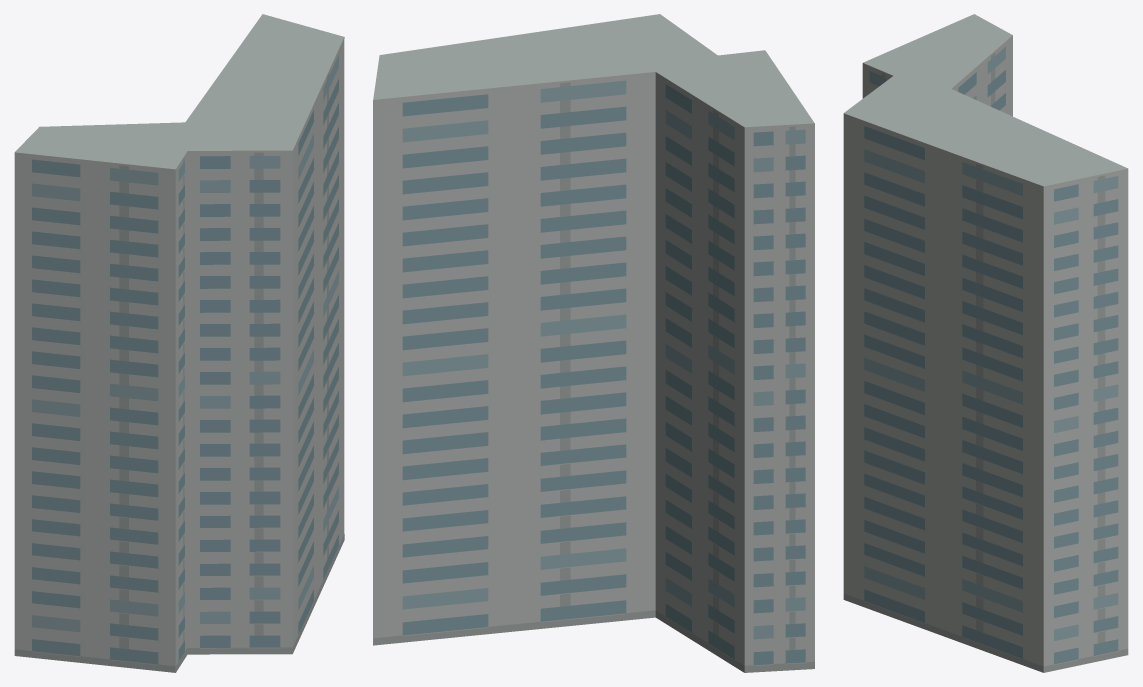
File: residential-224dfe6a-d7e5-41d9-98f5-3dac68c9d94a.glb
3 views of the same model, side by side, from view 1: azimuth 30°, elevation 25°; view 2: azimuth 150°, elevation 25°; view 3: azimuth 270°, elevation 25° (orthographic). The views are drawn at different scales.
Visible parts, largest first — view 1: residential-224dfe6a-d7e5-41d9-98f5-3dac68c9d94a.tmp; view 2: residential-224dfe6a-d7e5-41d9-98f5-3dac68c9d94a.tmp; view 3: residential-224dfe6a-d7e5-41d9-98f5-3dac68c9d94a.tmp.
Boxes of the visible parts, x1,y1,x2,y2 form: residential-224dfe6a-d7e5-41d9-98f5-3dac68c9d94a.tmp: (14,14,344,672); residential-224dfe6a-d7e5-41d9-98f5-3dac68c9d94a.tmp: (373,14,814,672); residential-224dfe6a-d7e5-41d9-98f5-3dac68c9d94a.tmp: (843,14,1128,672).
Size of the model in its own units: 50.19 by 66 by 35.04.
